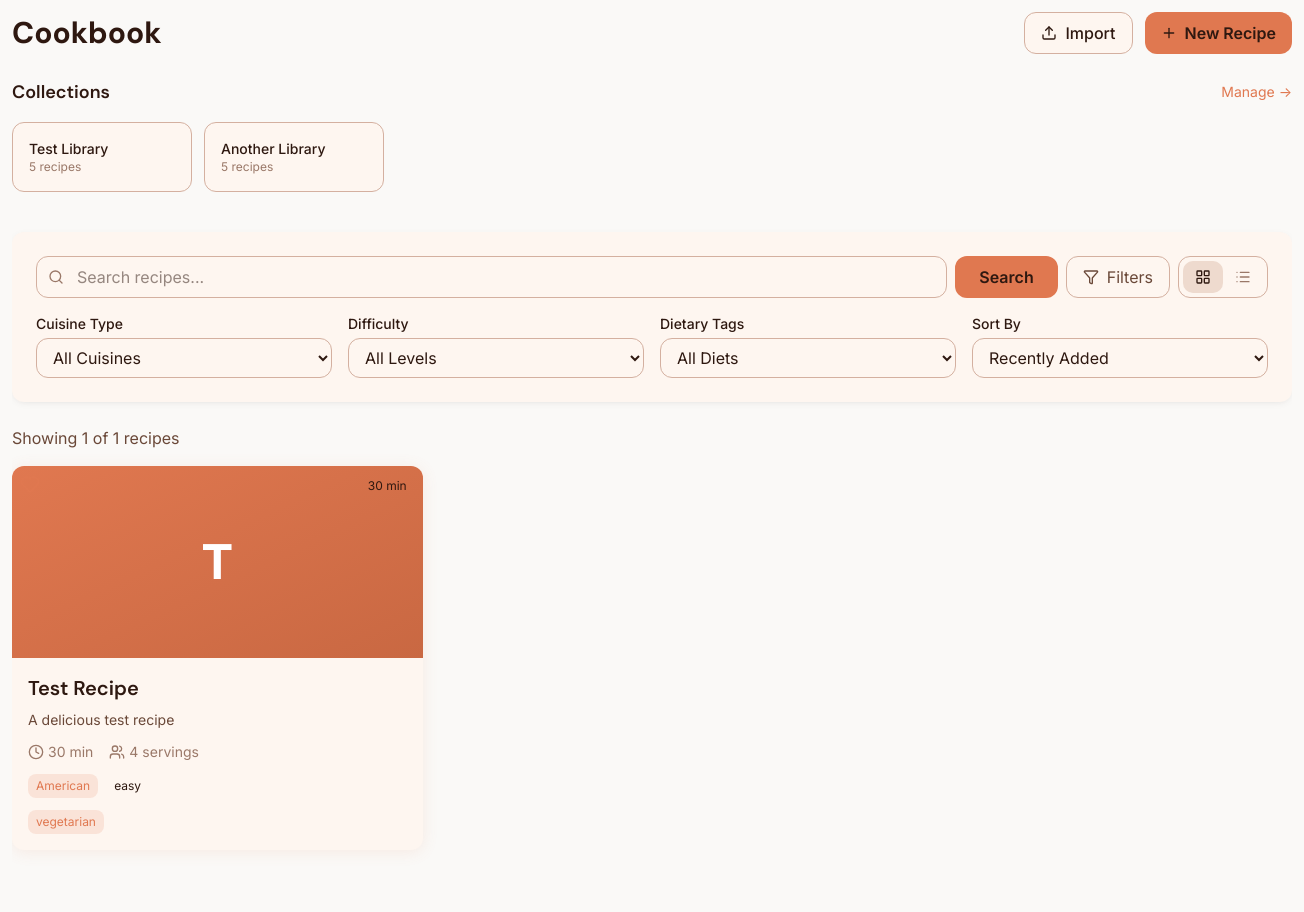
it: RecipesPage › Cookbook Page Redesign - Empty States › should display search empty state when no results match search
Check: the text "Showing 1 of 1 recipes" is shown, box [12,428,180,448]
// Search for something that doesn't exist
Type "xyznonexistent" into the field with test id "search-input" at (492, 277), box [36,256,947,298]
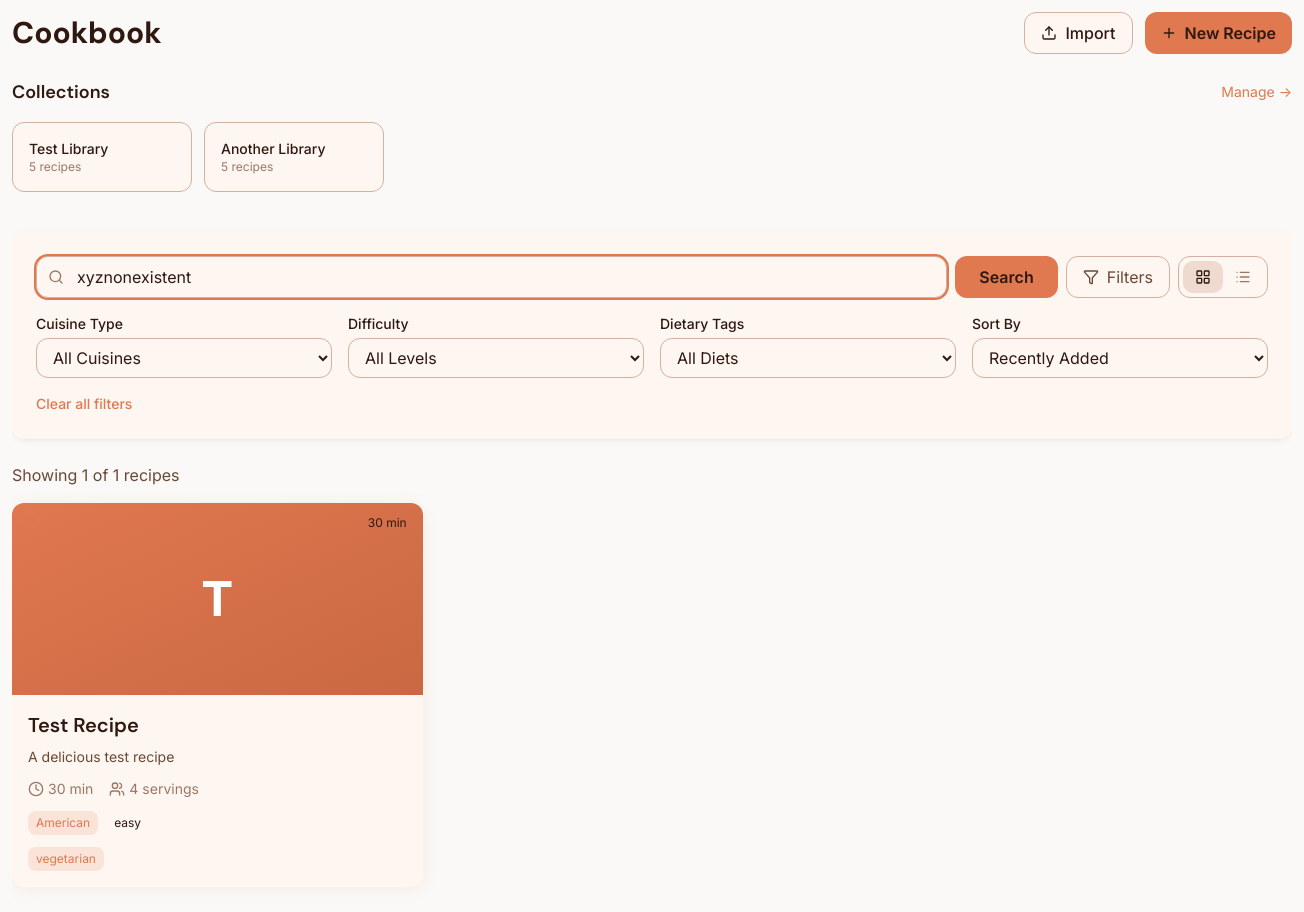
Click the button "Search" at (1006, 277), box [955,256,1058,298]
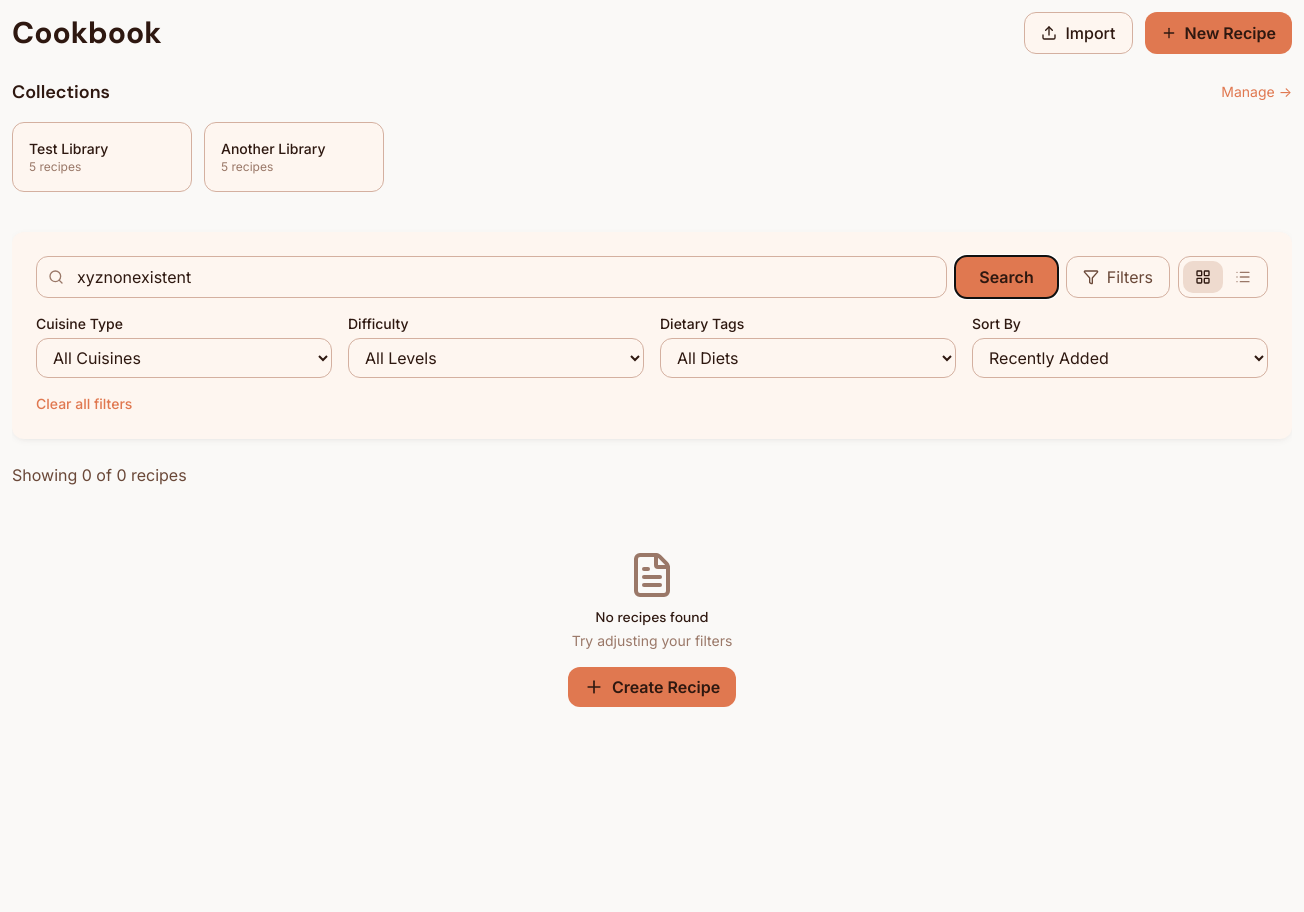
Check: the heading "No recipes found" is shown, box [596,608,708,626]
